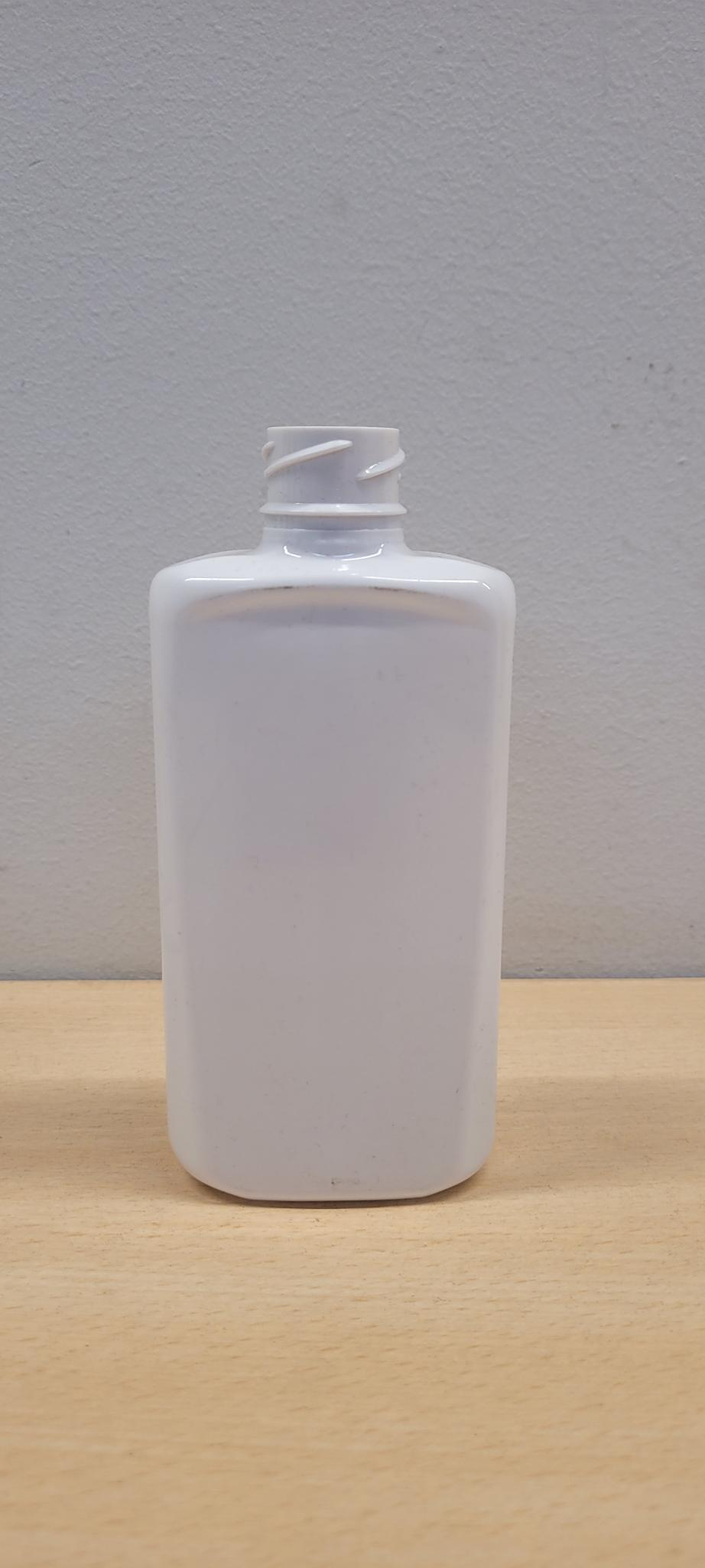bottle: (150, 426, 515, 1202)
